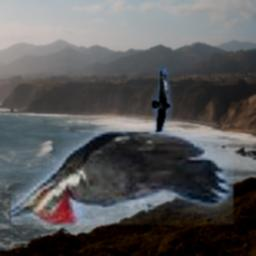Crow: (152, 68, 173, 139)
Woodpecker: (10, 133, 232, 226)
